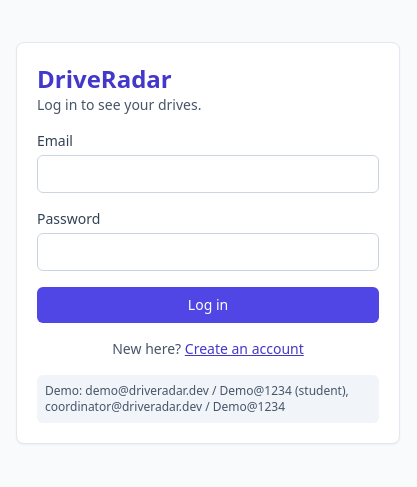
Scenario: student flow › shows the API error message on a failed login
This screenshot has width=417, height=487.
Type "x@example.com" into the field labelled "Email".
click(208, 174); type("x@example.com")  # box [37,155,379,193]
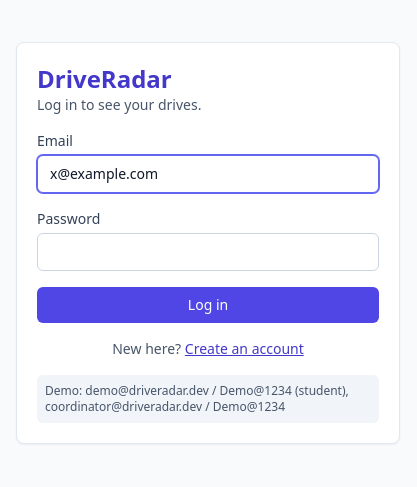
Type "nope" into the password field labelled "Password".
click(208, 252); type("nope")  # box [37,233,379,271]
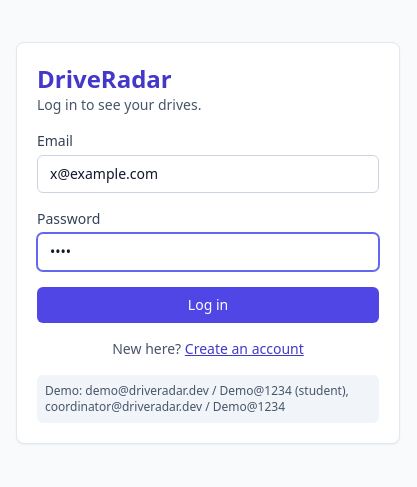
Click the button "Log in".
click(208, 305)  # box [37,287,379,323]
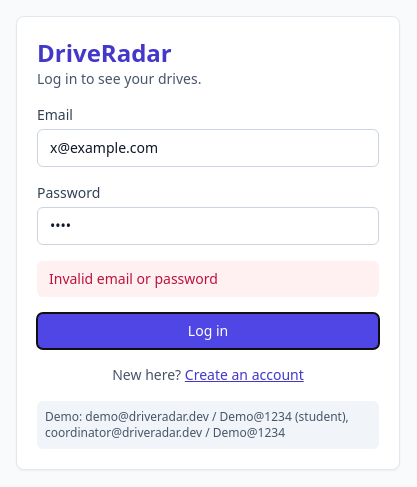
Check: the message reads "Invalid email or password", box [49,269,218,288]
